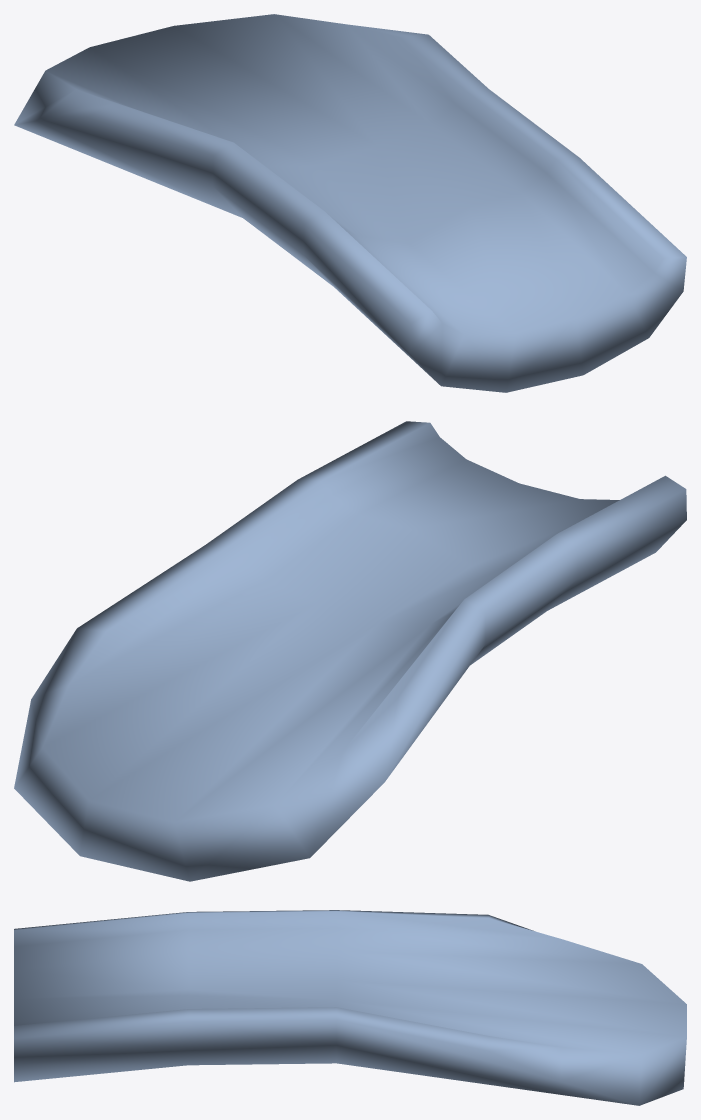
The model's file is junRoadend.fbx.
3 renders of one model, top to bottom at view 1: azimuth 30°, elevation 25°; view 2: azimuth 150°, elevation 25°; view 3: azimuth 270°, elevation 25°, orthographic. The views are drawn at different scales.
Visible parts, largest first — view 1: endRoad_LOD0; view 2: endRoad_LOD0; view 3: endRoad_LOD0.
Boxes of the visible parts, x1,y1,x2,y2 form: endRoad_LOD0: (14, 14, 686, 392); endRoad_LOD0: (14, 421, 686, 881); endRoad_LOD0: (14, 910, 686, 1105).
Size of the model in its own units: 1212 by 456 by 2489.
